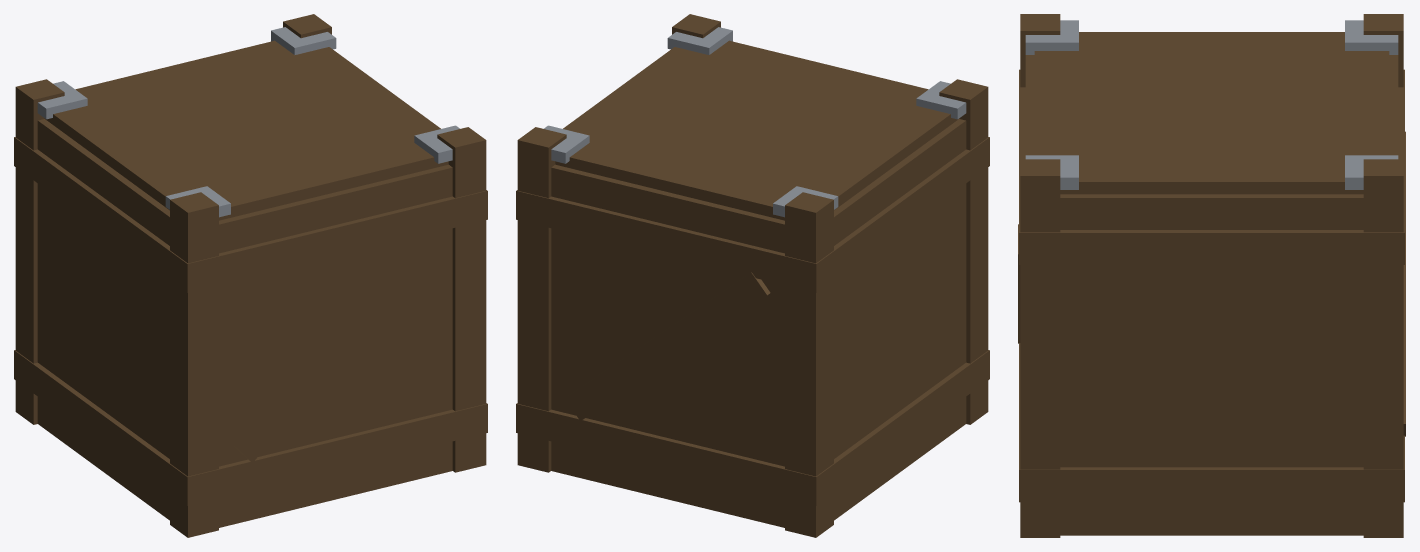
File: prop_crate.glb
3 views of the same model, side by side, from view 1: azimuth 30°, elevation 25°; view 2: azimuth 150°, elevation 25°; view 3: azimuth 270°, elevation 25° (orthographic). The views are drawn at different scales.
Parts seen in each view (by area): view 1: crate_body, crate_lid, band_0, band_1, batten_1, batten_0, brace_front, batten_3, lid_bracket_2, lid_bracket_3, lid_bracket_0, batten_2 (+1 smaller); view 2: crate_body, crate_lid, band_0, band_1, batten_3, batten_2, batten_1, brace_back, lid_bracket_0, lid_bracket_1, lid_bracket_2, batten_0 (+1 smaller); view 3: crate_body, crate_lid, band_1, band_0, batten_0, batten_2, lid_bracket_1, lid_bracket_3, batten_1, batten_3, lid_bracket_0, lid_bracket_2 (+1 smaller).
Part boxes in pixels (box(x1,y1,x2,y2)): crate_body: box(37, 119, 452, 527); crate_lid: box(44, 40, 448, 220); band_0: box(14, 350, 487, 505); band_1: box(14, 137, 487, 292); batten_1: box(170, 192, 218, 537); batten_0: box(437, 127, 486, 472); brace_front: box(233, 231, 438, 462); batten_3: box(15, 79, 64, 424); lid_bracket_2: box(271, 27, 336, 54); lid_bracket_3: box(37, 81, 87, 119); lid_bracket_0: box(414, 125, 459, 163); batten_2: box(283, 14, 331, 38); crate_body: box(551, 119, 966, 527); crate_lid: box(555, 40, 959, 220); band_0: box(516, 350, 989, 505); band_1: box(516, 137, 989, 292); batten_3: box(785, 192, 833, 537); batten_2: box(517, 127, 566, 472); batten_1: box(939, 79, 988, 424); brace_back: box(564, 272, 770, 420); lid_bracket_0: box(667, 27, 732, 54); lid_bracket_1: box(916, 81, 966, 119); lid_bracket_2: box(544, 125, 589, 163); batten_0: box(672, 14, 720, 38); crate_body: box(1025, 55, 1398, 535); crate_lid: box(1034, 32, 1389, 194); band_1: box(1019, 69, 1404, 264); band_0: box(1019, 343, 1404, 502); batten_0: box(1020, 159, 1060, 537); batten_2: box(1363, 159, 1403, 537); lid_bracket_1: box(1025, 20, 1078, 54); lid_bracket_3: box(1345, 20, 1398, 54); batten_1: box(1020, 14, 1060, 87); batten_3: box(1363, 14, 1403, 87); lid_bracket_0: box(1025, 155, 1078, 189); lid_bracket_2: box(1345, 155, 1398, 189).
Size of the model in its own units: 0.87 by 0.9 by 0.874.
